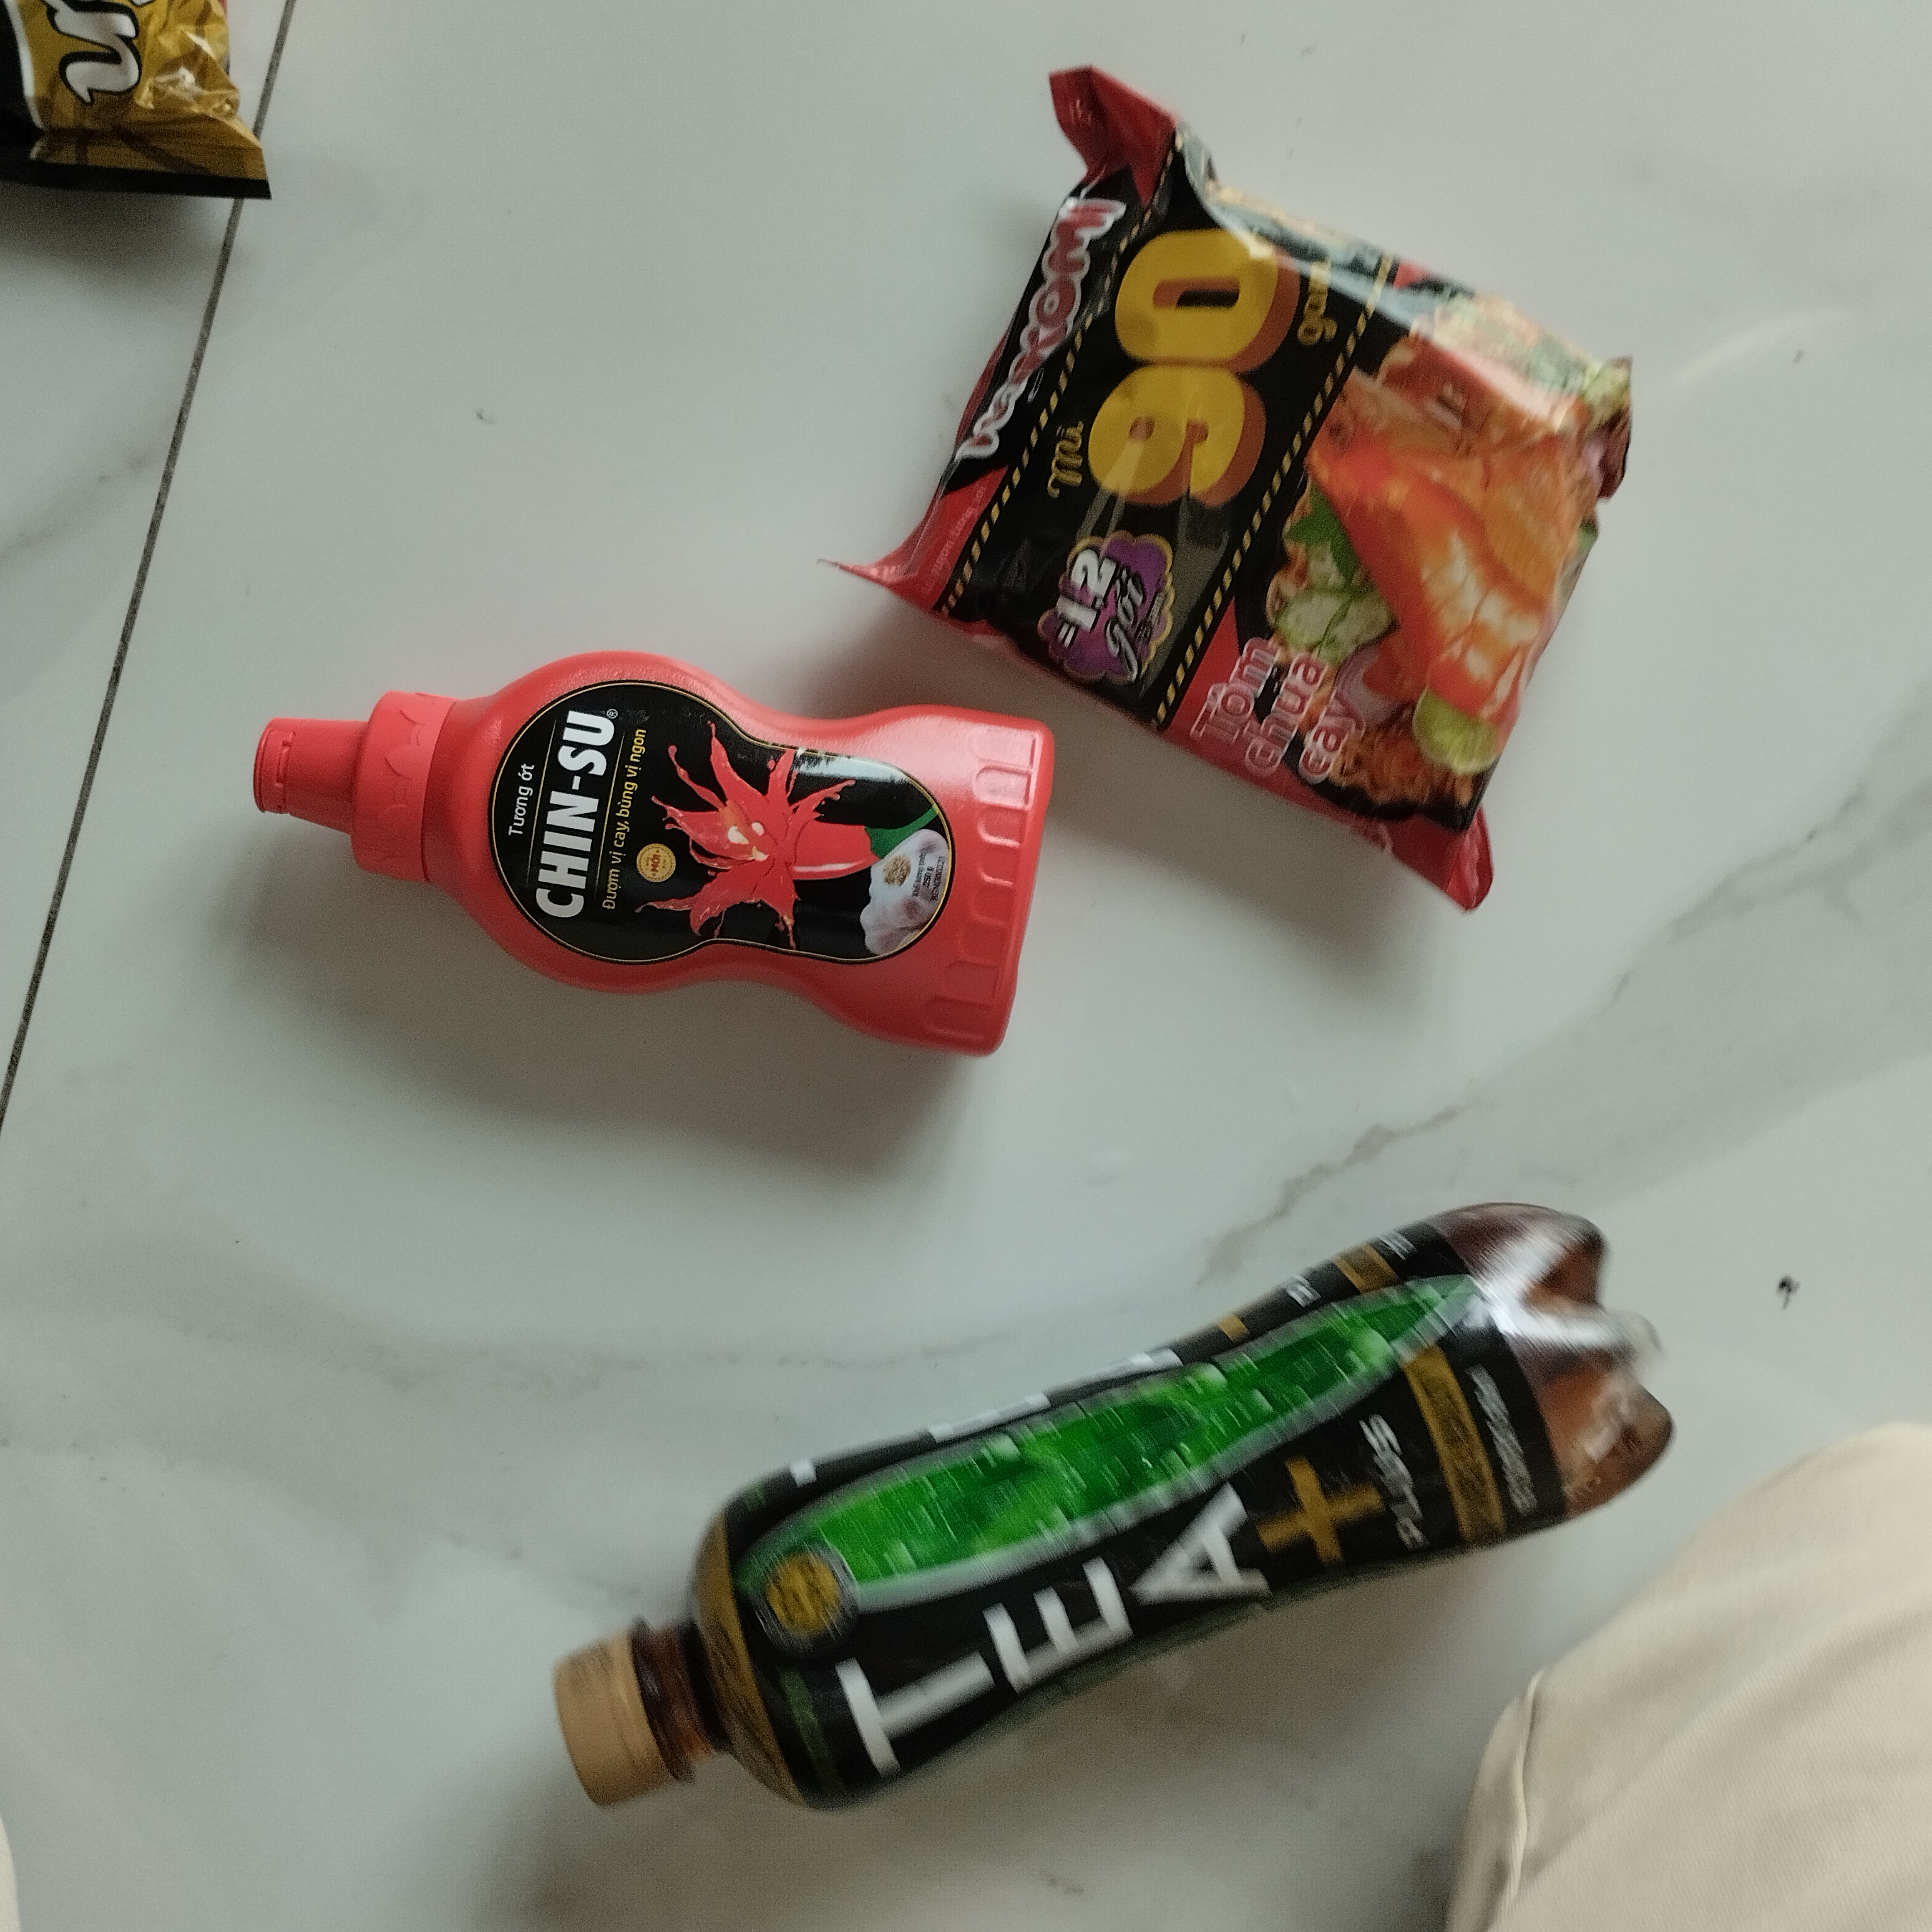Chinsu: (223, 642, 1100, 1097)
Kokomi: (824, 58, 1663, 948)
Olong: (511, 1184, 1697, 1819)
